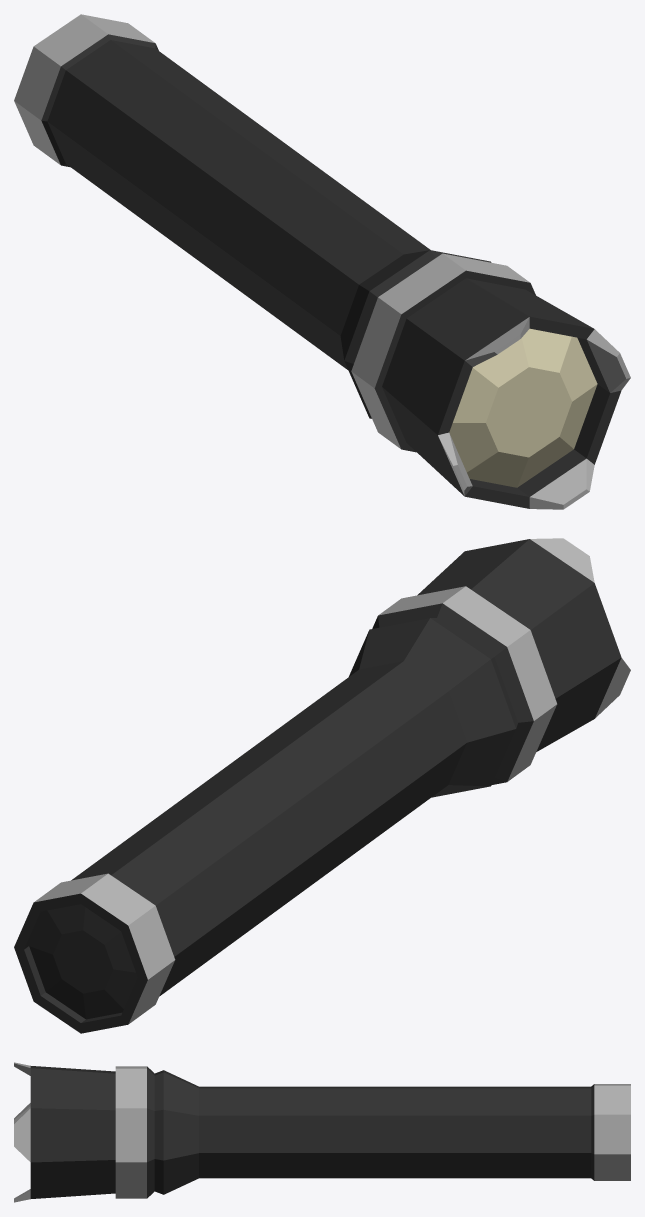
The model's file is Flashlight_mat.fbx.
3 views of the same model, one above another, from view 1: azimuth 30°, elevation 25°; view 2: azimuth 150°, elevation 25°; view 3: azimuth 270°, elevation 25° (orthographic). The views are drawn at different scales.
Visible parts, largest first — view 1: Flashlight_mat; view 2: Flashlight_mat; view 3: Flashlight_mat.
Boxes of the visible parts, left/top/right/bottom form: Flashlight_mat: left=14, top=14, right=630, bottom=509; Flashlight_mat: left=14, top=538, right=630, bottom=1033; Flashlight_mat: left=14, top=1062, right=630, bottom=1202.
Bounding box in the file's own units: 3.73 × 3.73 × 16.2.
